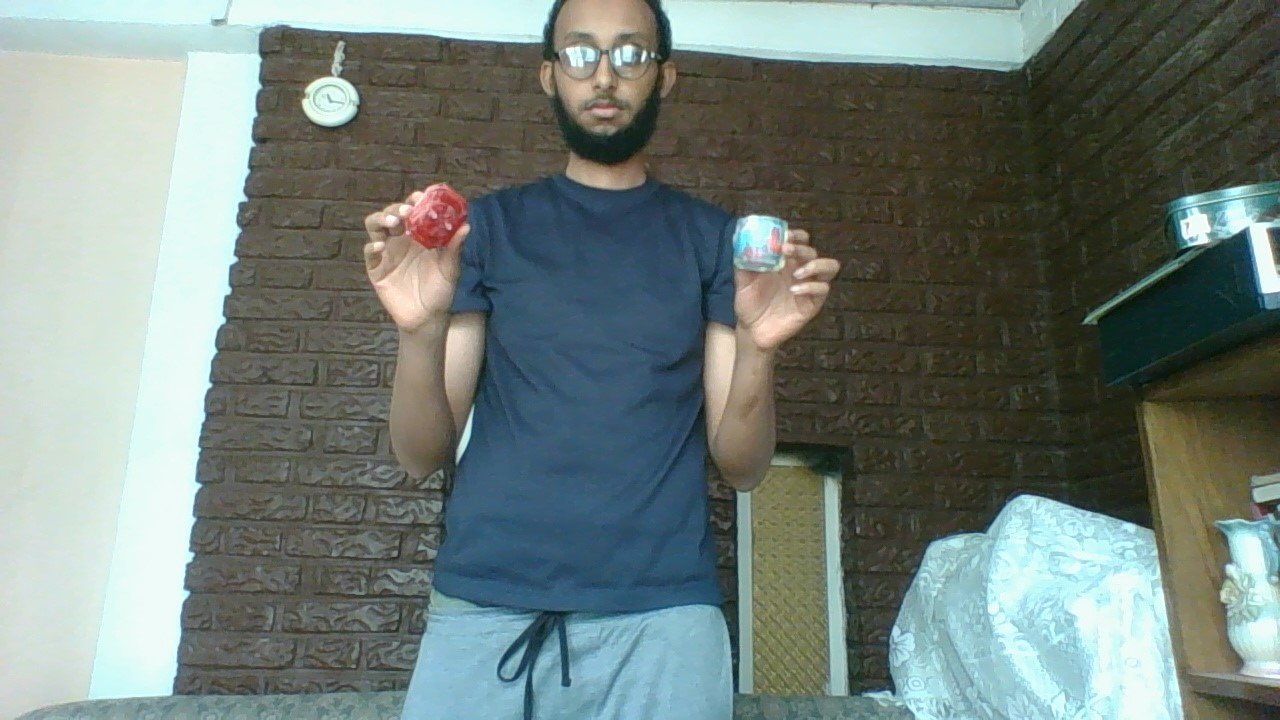Multi_adapter: (401, 179, 473, 253)
world_globe: (730, 209, 791, 276)
